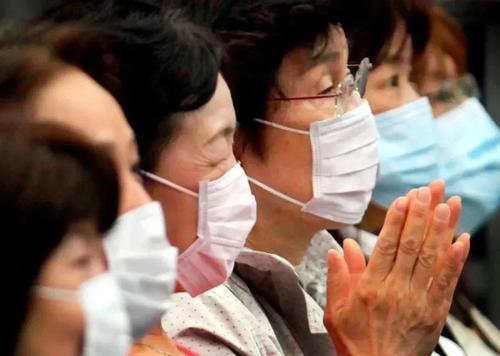mask: (166, 168, 259, 292), (299, 97, 383, 222), (100, 202, 177, 327)
